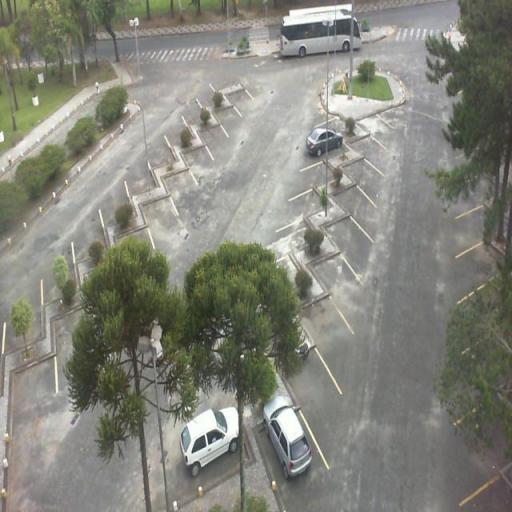Slot-empty: (286, 330, 351, 410), (304, 281, 358, 368), (6, 359, 63, 440), (316, 244, 361, 300), (337, 176, 385, 228), (342, 153, 388, 195), (334, 212, 372, 262), (348, 132, 391, 172), (137, 193, 179, 233), (357, 107, 402, 143), (221, 71, 257, 111), (181, 143, 220, 179), (160, 169, 201, 203), (290, 194, 325, 226), (198, 122, 232, 154), (301, 160, 334, 192), (209, 98, 243, 129)
Slot-occupied: (256, 397, 326, 490), (169, 395, 245, 478), (300, 122, 348, 154)
